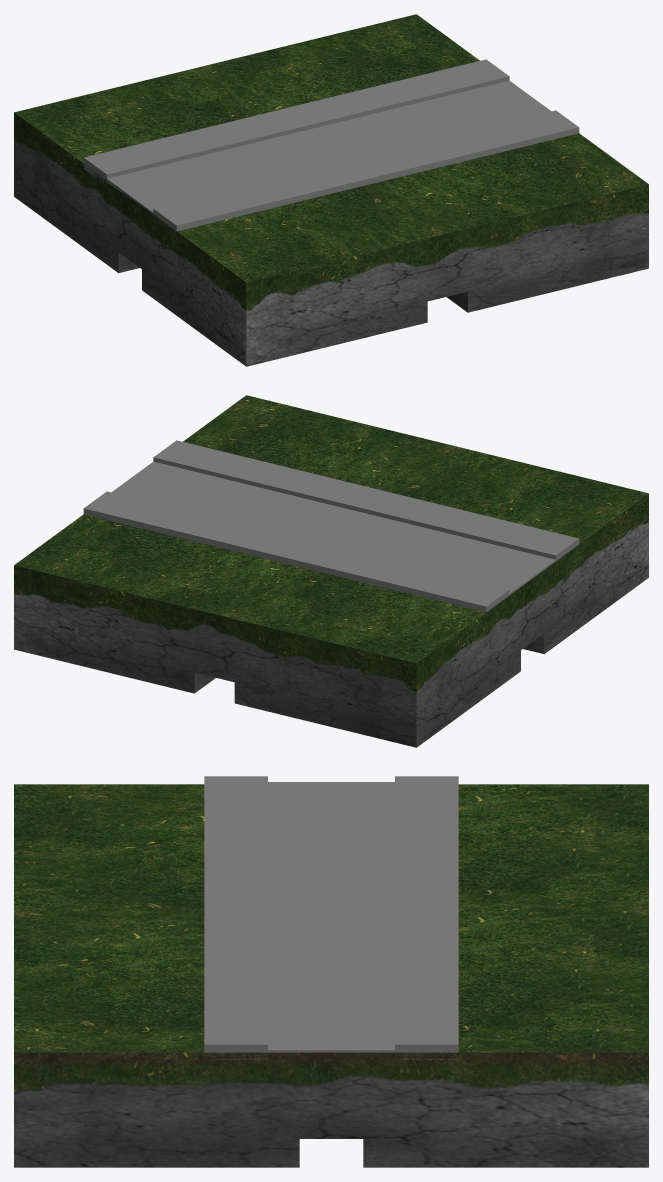
Rendered from puzzlePiece_straight_EW.obj.
3 renders of one model, top to bottom at view 1: azimuth 30°, elevation 25°; view 2: azimuth 150°, elevation 25°; view 3: azimuth 270°, elevation 25°, orthographic. The views are drawn at different scales.
Visible parts, largest first — view 1: pCube1, polySurface3, polySurface2 pCube5; view 2: pCube1, polySurface3, polySurface2 pCube5; view 3: pCube1, polySurface3, polySurface2 pCube5.
Part boxes in pixels (x1,y1,x2,y2): pCube1: (14,14,648,366); polySurface3: (83,59,579,235); polySurface2 pCube5: (106,80,551,214); pCube1: (14,395,648,747); polySurface3: (83,440,579,612); polySurface2 pCube5: (111,461,556,595); pCube1: (14,784,648,1167); polySurface3: (204,776,458,1060); polySurface2 pCube5: (267,782,395,1054).
Bounding box in the file's own units: 0.5 × 0.107 × 0.5.
Materials: 3 (1 with a texture image).
